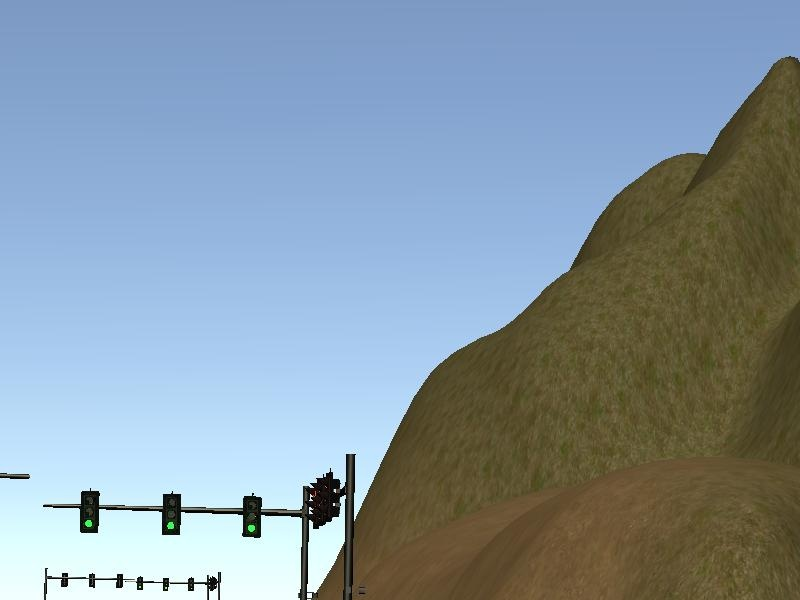green: (243, 496, 263, 539), (164, 494, 183, 536), (81, 491, 100, 533), (188, 578, 196, 592), (137, 576, 145, 590), (164, 578, 170, 592)
